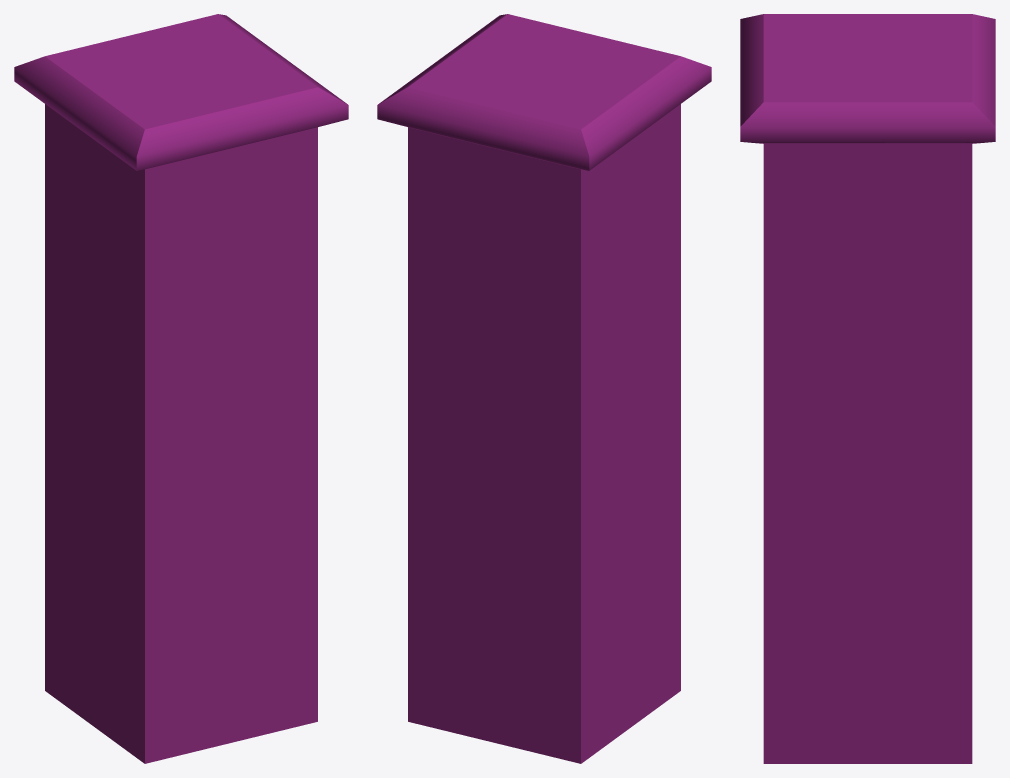
Rendered from HuisHek_Paal.FBX.
3 renders of one model, left to right at view 1: azimuth 30°, elevation 25°; view 2: azimuth 150°, elevation 25°; view 3: azimuth 270°, elevation 25°, orthographic. The views are drawn at different scales.
Parts seen in each view (by area): view 1: Object002; view 2: Object002; view 3: Object002.
Part boxes in pixels (<box>): Object002: <box>14,14,348,763</box>; Object002: <box>377,14,711,763</box>; Object002: <box>740,14,995,763</box>.
Bounding box in the file's own units: 9.63 × 27.56 × 9.63.
